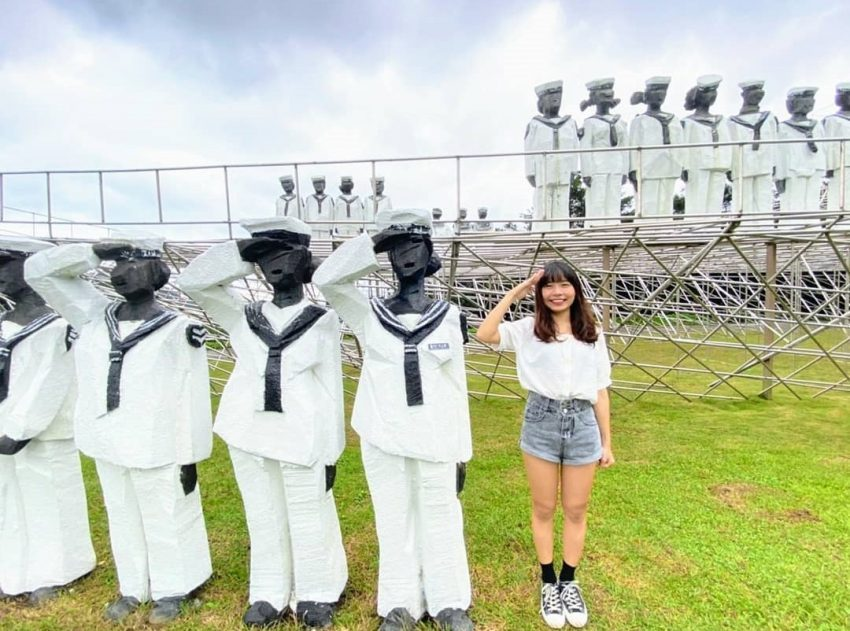people: (477, 261, 615, 631)
